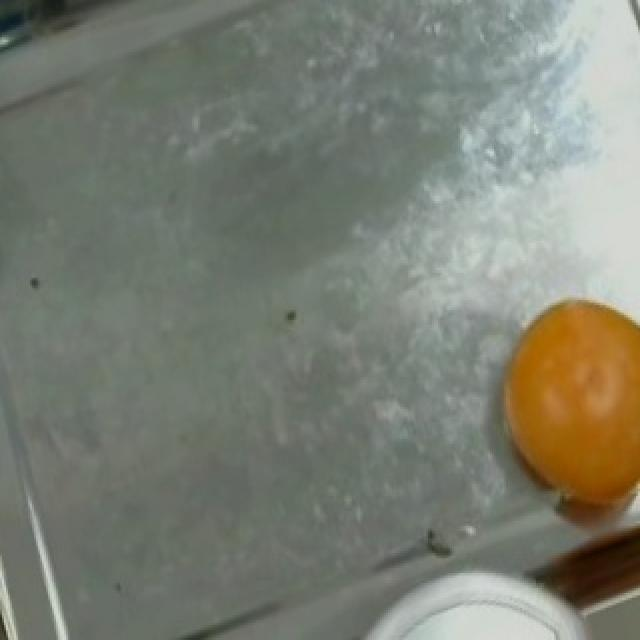Fruit: (476, 278, 640, 580), (382, 593, 598, 640)
